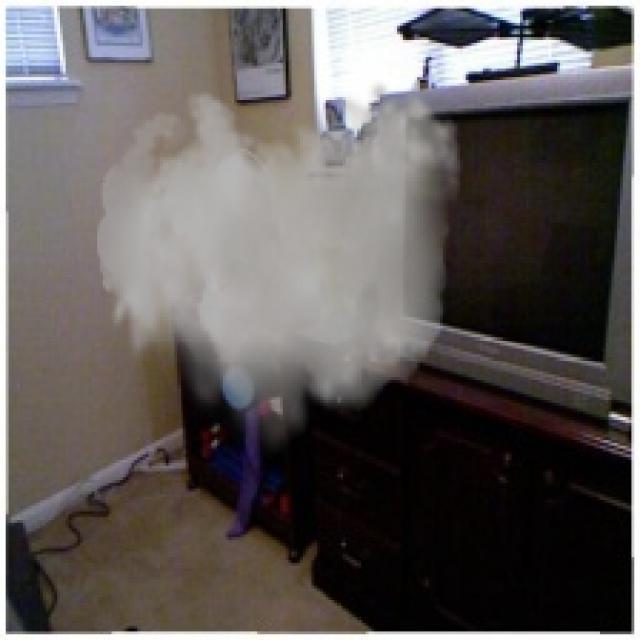Smoke: (97, 80, 463, 460)
